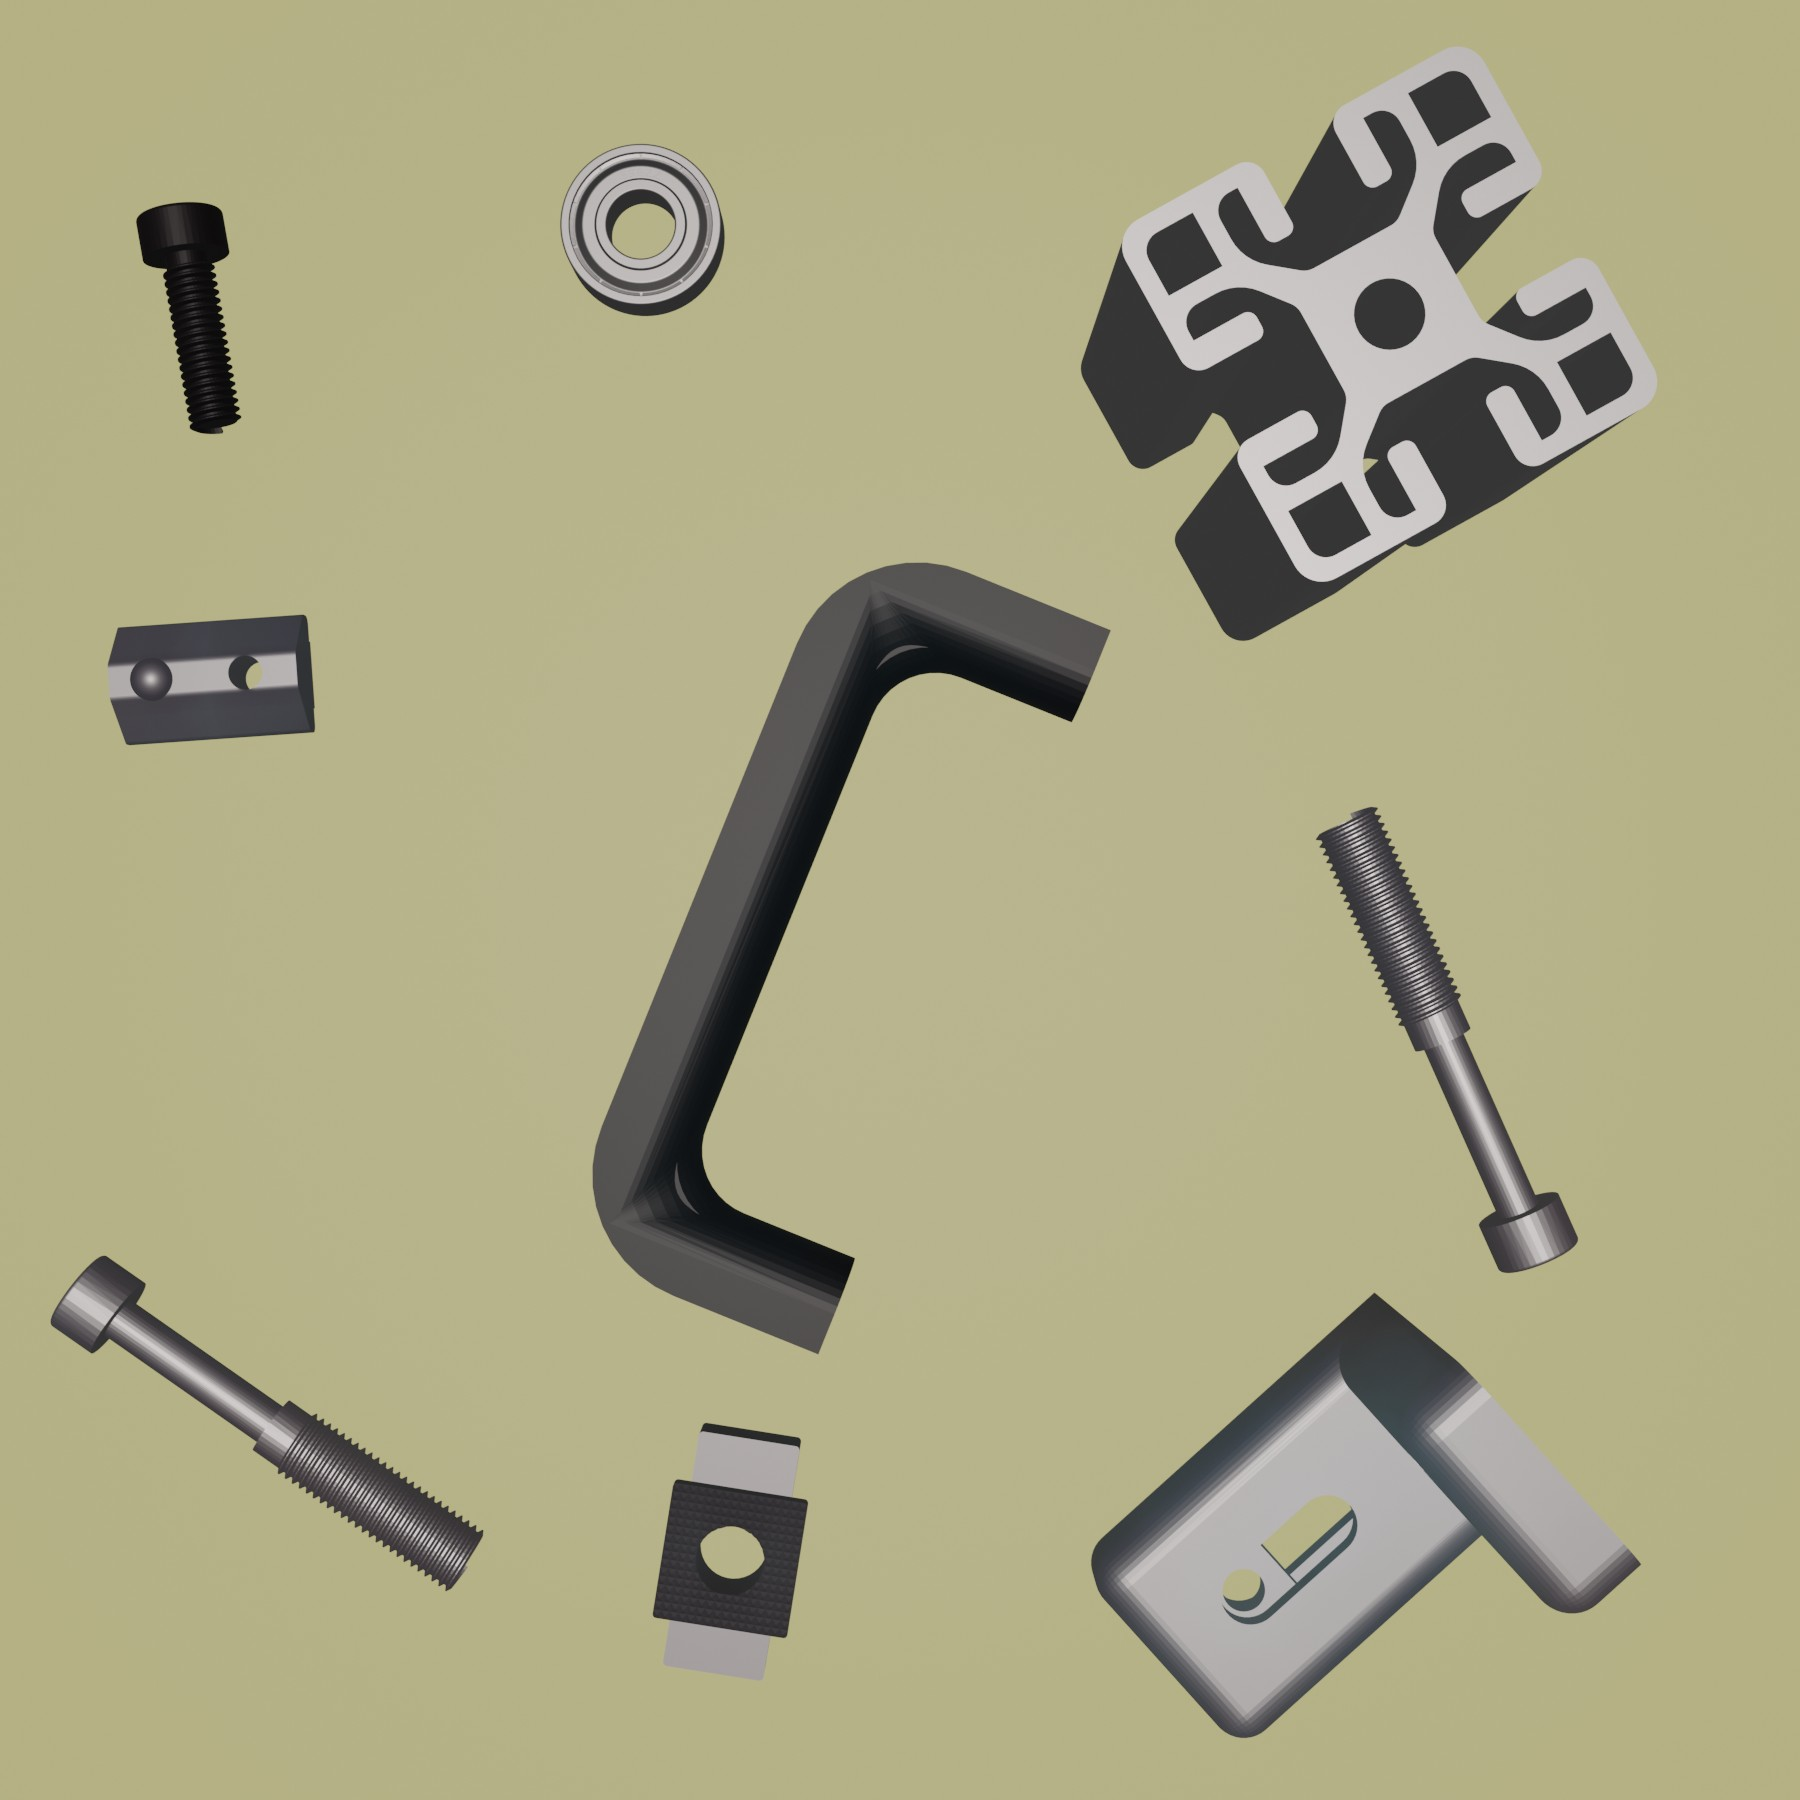Aluminium Extension: (1078, 43, 1662, 641)
Multiwinkel: (1090, 1287, 1647, 1739)
Pull Handle: (590, 559, 1111, 1353)
Shoulder Socket Head Cap Screw: (48, 1253, 486, 1592), (1314, 803, 1581, 1274)
Socket Head Cap Screw: (555, 138, 727, 318), (134, 199, 242, 437)
T Nut Square: (649, 1418, 813, 1685)
T Spring Nut: (104, 612, 320, 748)
